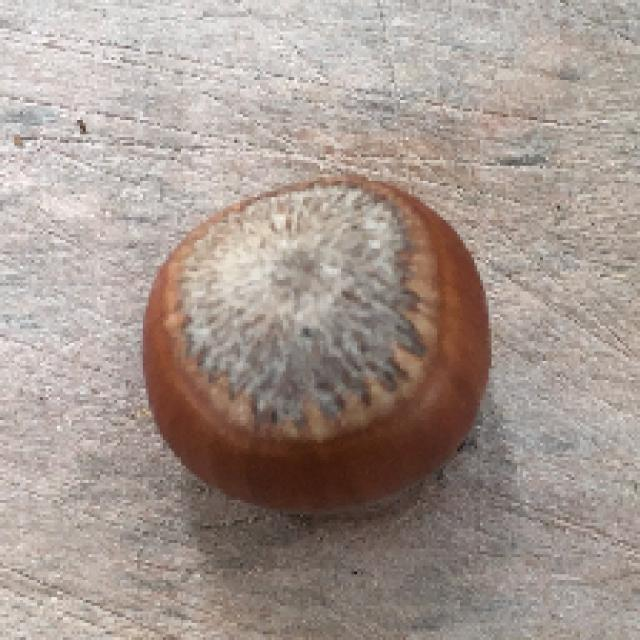damagedHazelnut: (108, 159, 506, 533)
